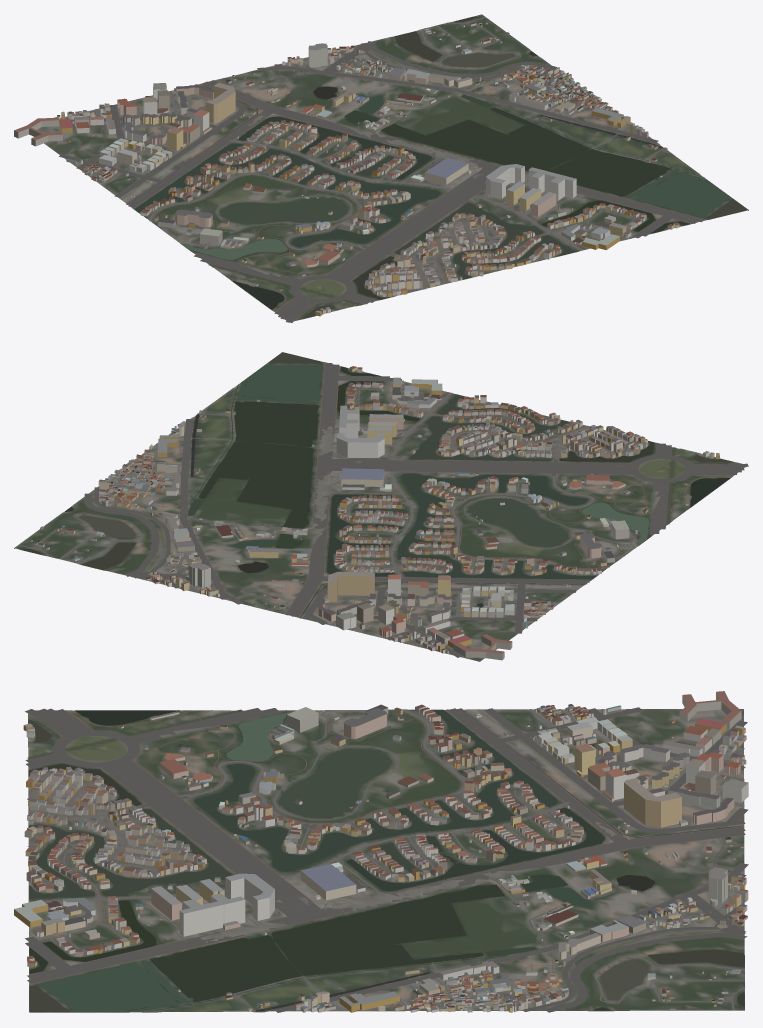
3 renders of one model, top to bottom at view 1: azimuth 30°, elevation 25°; view 2: azimuth 150°, elevation 25°; view 3: azimuth 270°, elevation 25°, orthographic. The views are drawn at different scales.
Parts seen in each view (by area): view 1: ground, buildings, water, roads; view 2: ground, buildings, water, roads; view 3: ground, buildings, water, roads.
Boxes of the visible parts, bbox=[...] form: ground: bbox=[37, 14, 748, 321]; buildings: bbox=[14, 21, 679, 316]; water: bbox=[133, 16, 747, 318]; roads: bbox=[59, 17, 706, 322]; ground: bbox=[14, 352, 745, 661]; buildings: bbox=[30, 366, 719, 660]; water: bbox=[21, 352, 733, 618]; roads: bbox=[18, 362, 748, 657]; ground: bbox=[28, 709, 744, 1012]; buildings: bbox=[14, 691, 748, 1012]; water: bbox=[27, 709, 744, 1012]; roads: bbox=[25, 707, 748, 1012].
Size of the model in its own units: 1456 by 61.38 by 1439.
